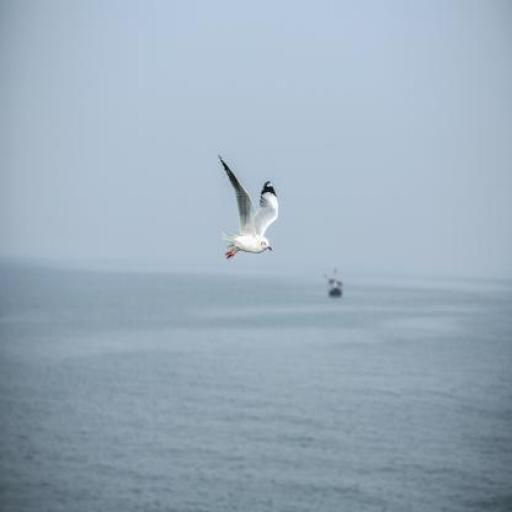bird: (218, 155, 279, 258)
